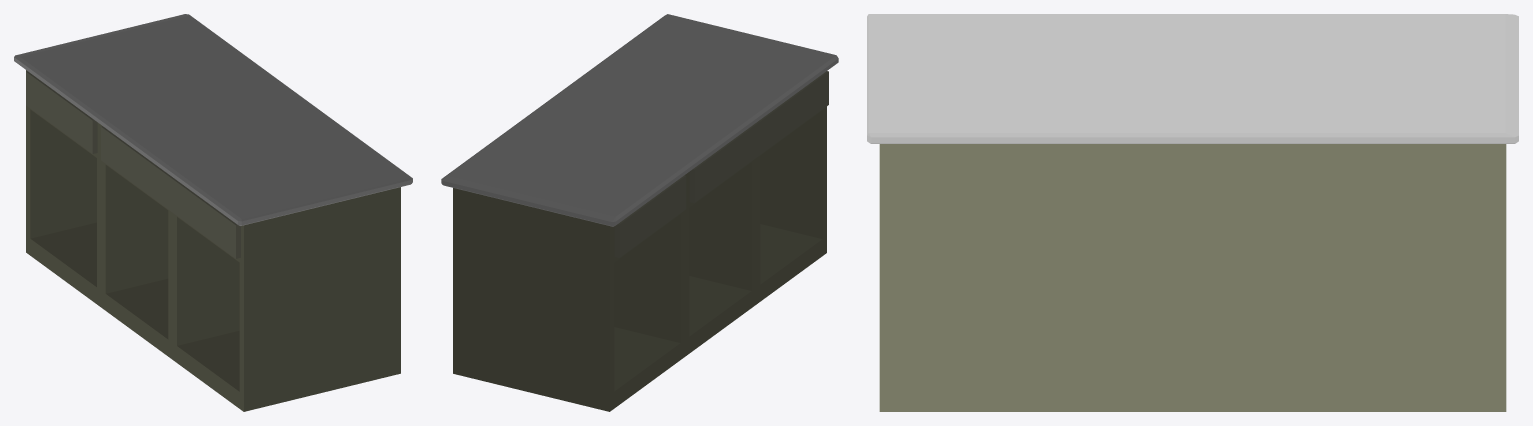
File: FP418:BathroomSink2_5af95d26.obj
The picture shows the model from 3 angles, left to right: view 1: azimuth 30°, elevation 25°; view 2: azimuth 150°, elevation 25°; view 3: azimuth 270°, elevation 25°; orthographic projection. The views are drawn at different scales.
Parts seen in each view (by area): view 1: FP418:BathroomSink2_5af95d26; view 2: FP418:BathroomSink2_5af95d26; view 3: FP418:BathroomSink2_5af95d26.
Part boxes in pixels (<box>): FP418:BathroomSink2_5af95d26: <box>14,14,412,411</box>; FP418:BathroomSink2_5af95d26: <box>441,14,838,411</box>; FP418:BathroomSink2_5af95d26: <box>867,14,1518,411</box>.
Bounding box in the file's own units: 0.7518 × 0.8096 × 1.69.
